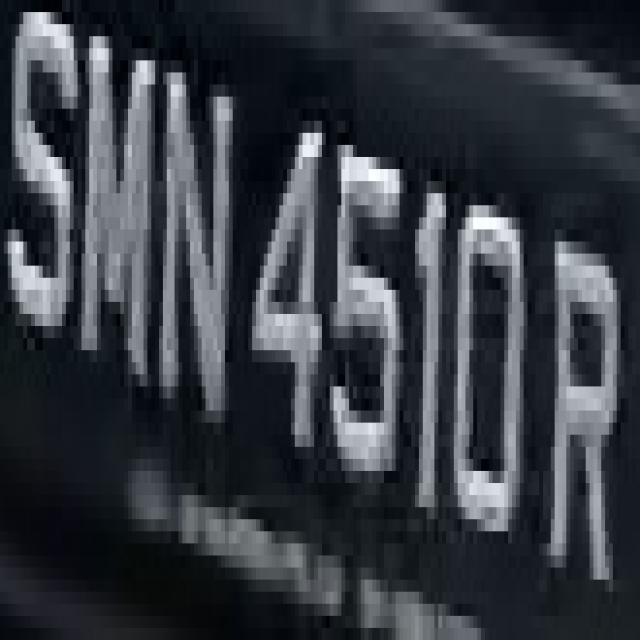0: (442, 132, 524, 580)
1: (407, 120, 454, 568)
4: (256, 72, 330, 447)
5: (322, 85, 403, 519)
M: (85, 0, 158, 398)
N: (159, 36, 241, 471)
R: (539, 157, 621, 616)
S: (0, 0, 81, 386)
